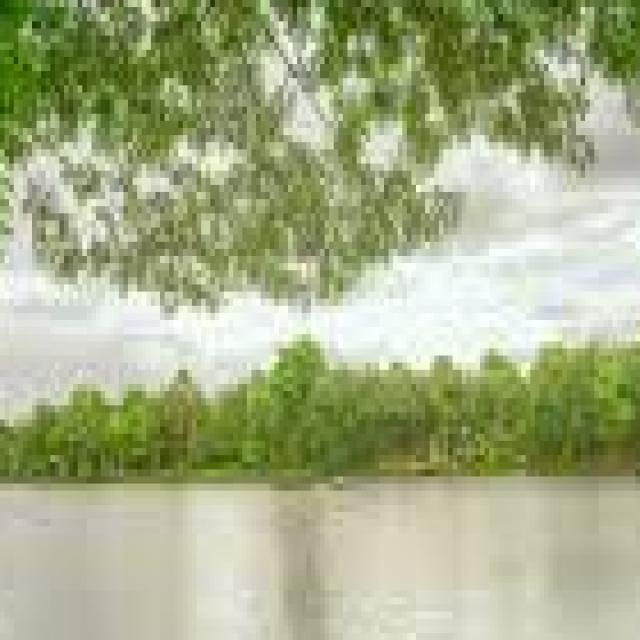-: (13, 476, 640, 639)
